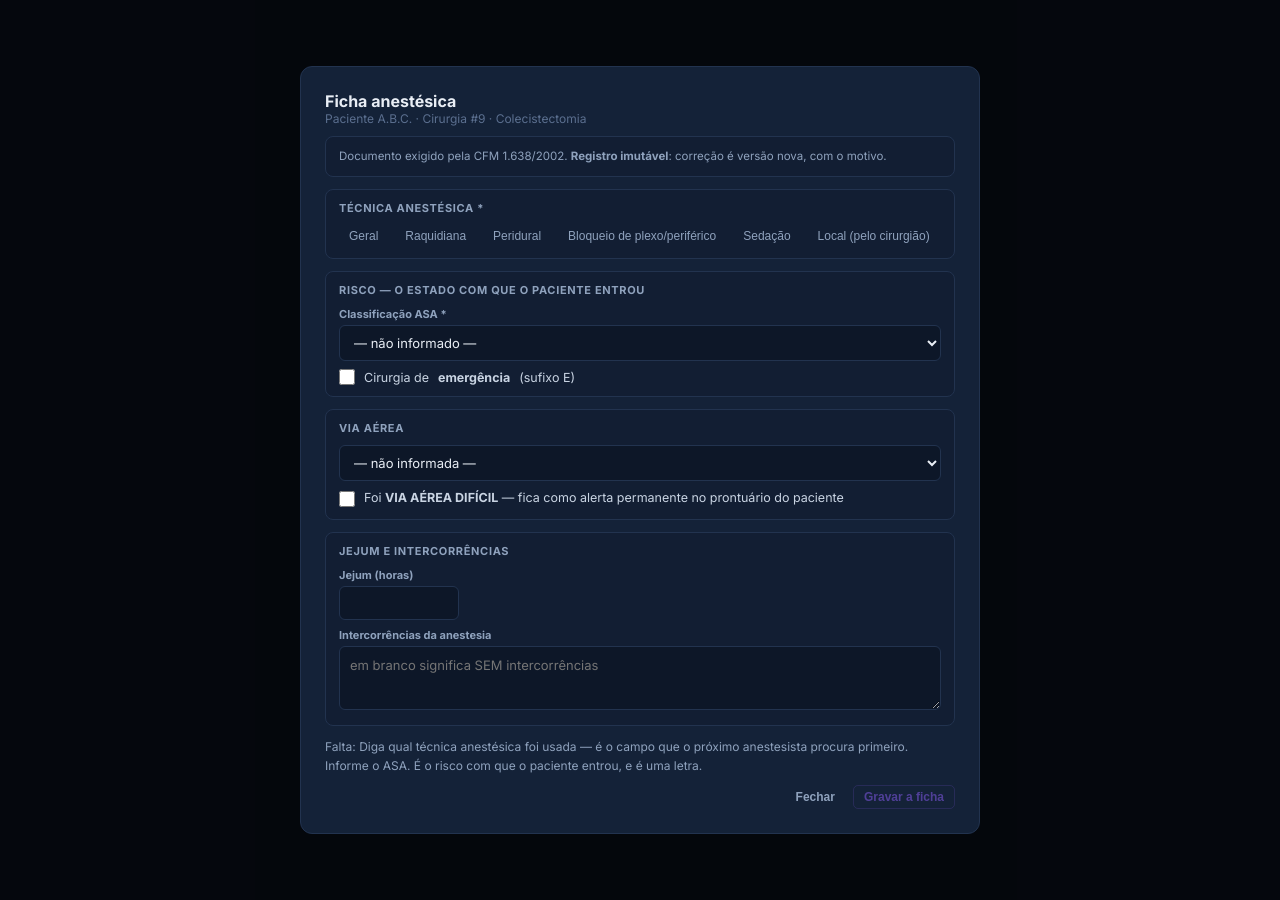
Test: o modal da ficha anestésica › o campo do manejo só aparece depois de marcar difícil
Expected: the field with placeholder "o que falhou, o que funcionou" is not shown
Click the checkbox labelled "VIA AÉREA DIFÍCIL" at (347, 499), box [339,491,355,507]
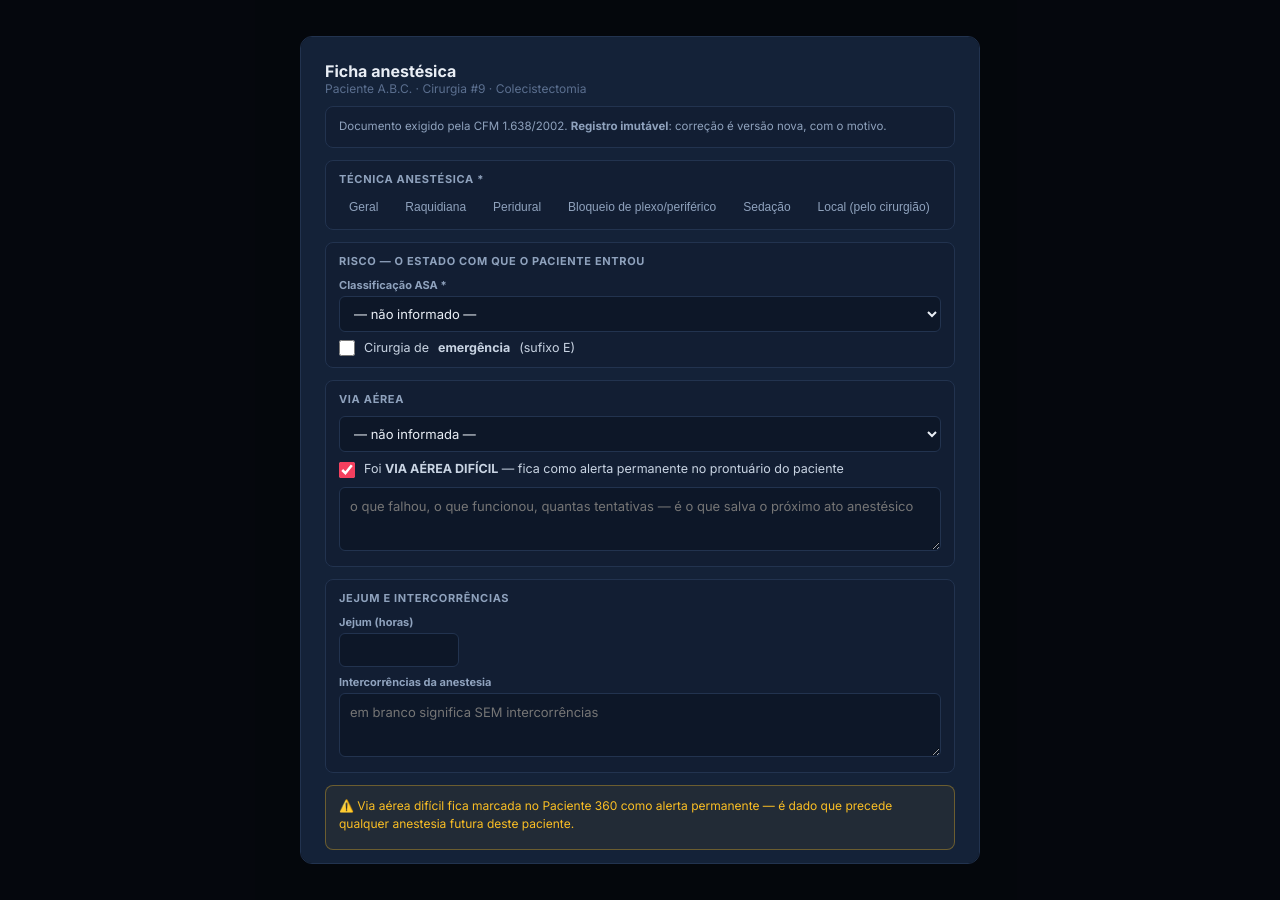
Now the text box with placeholder "o que falhou, o que funcionou" is shown, box [339,487,941,551]
